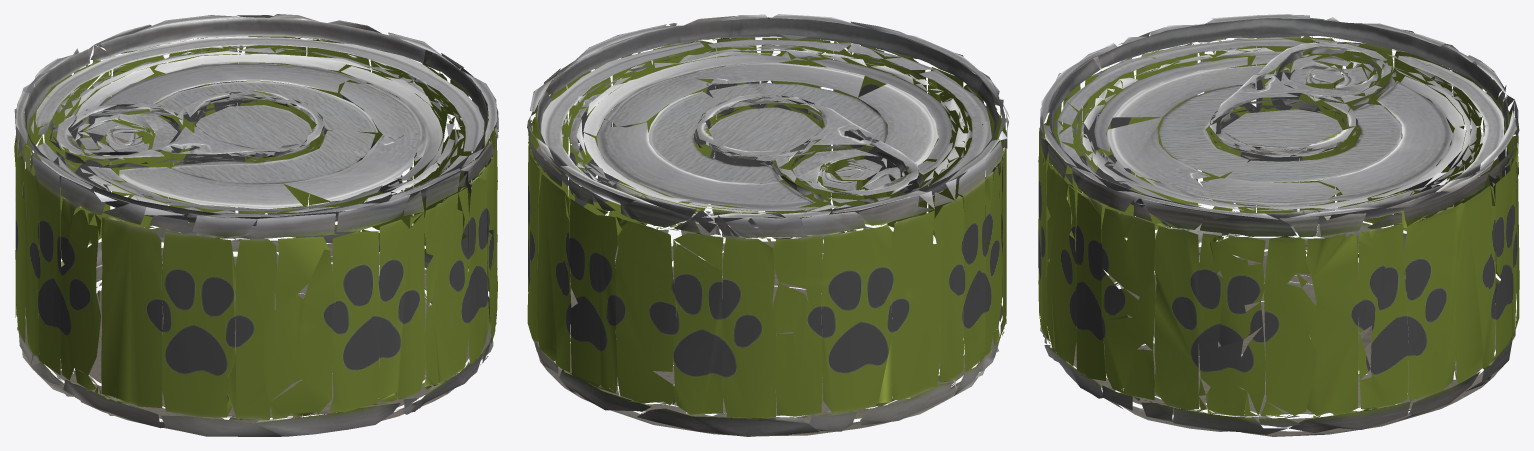
Rendered from P_CanGreen_h5.fbx.
The picture shows the model from 3 angles, left to right: view 1: azimuth 30°, elevation 25°; view 2: azimuth 150°, elevation 25°; view 3: azimuth 270°, elevation 25°; orthographic projection.
Parts seen in each view (by area): view 1: surface_7; view 2: surface_7; view 3: surface_7.
Part boxes in pixels (x1,y1,x2,y2): surface_7: (14, 14, 498, 436); surface_7: (527, 14, 1009, 436); surface_7: (1038, 14, 1519, 436).
Size of the model in its own units: 1.94 by 0.9999 by 1.94.
1 material, 1 textured.
